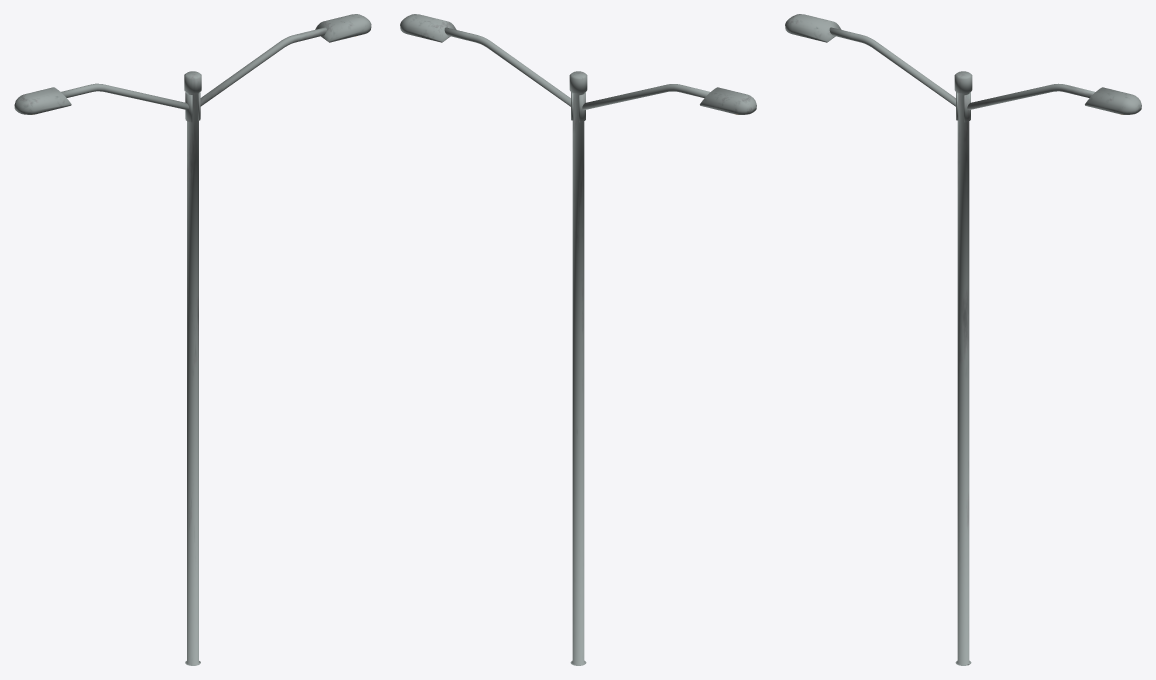
Rendered from street_light_double.glb.
3 views of the same model, side by side, from view 1: azimuth 30°, elevation 25°; view 2: azimuth 150°, elevation 25°; view 3: azimuth 330°, elevation 25° (orthographic).
Parts seen in each view (by area): view 1: Street Light 2; view 2: Street Light 2; view 3: Street Light 2.
Boxes of the visible parts, x1,y1,x2,y2 form: Street Light 2: (14,14,371,665); Street Light 2: (400,14,756,665); Street Light 2: (785,14,1141,665).
Bounding box in the file's own units: 3.46 × 5.69 × 0.2472.
2 materials, 2 textured.
